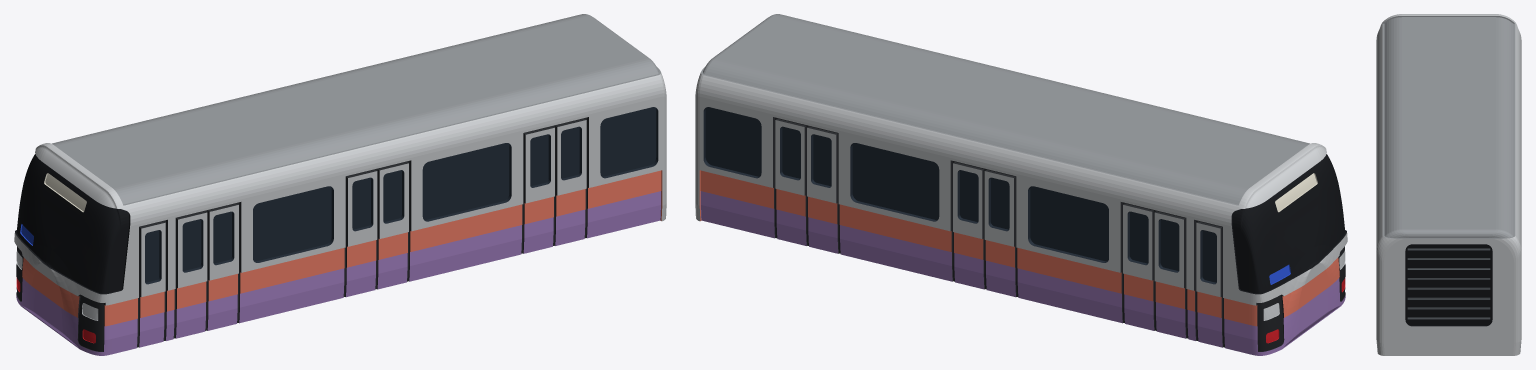
File: cairo.glb
The picture shows the model from 3 angles, left to right: view 1: azimuth 30°, elevation 25°; view 2: azimuth 150°, elevation 25°; view 3: azimuth 270°, elevation 25°; orthographic projection. The views are drawn at different scales.
Visible parts, largest first — view 1: ecm_cairo; view 2: ecm_cairo; view 3: ecm_cairo.
Boxes of the visible parts, x1,y1,x2,y2 form: ecm_cairo: (14, 14, 666, 355); ecm_cairo: (695, 14, 1347, 355); ecm_cairo: (1376, 14, 1521, 355).
Bounding box in the file's own units: 150 × 38 × 40.
